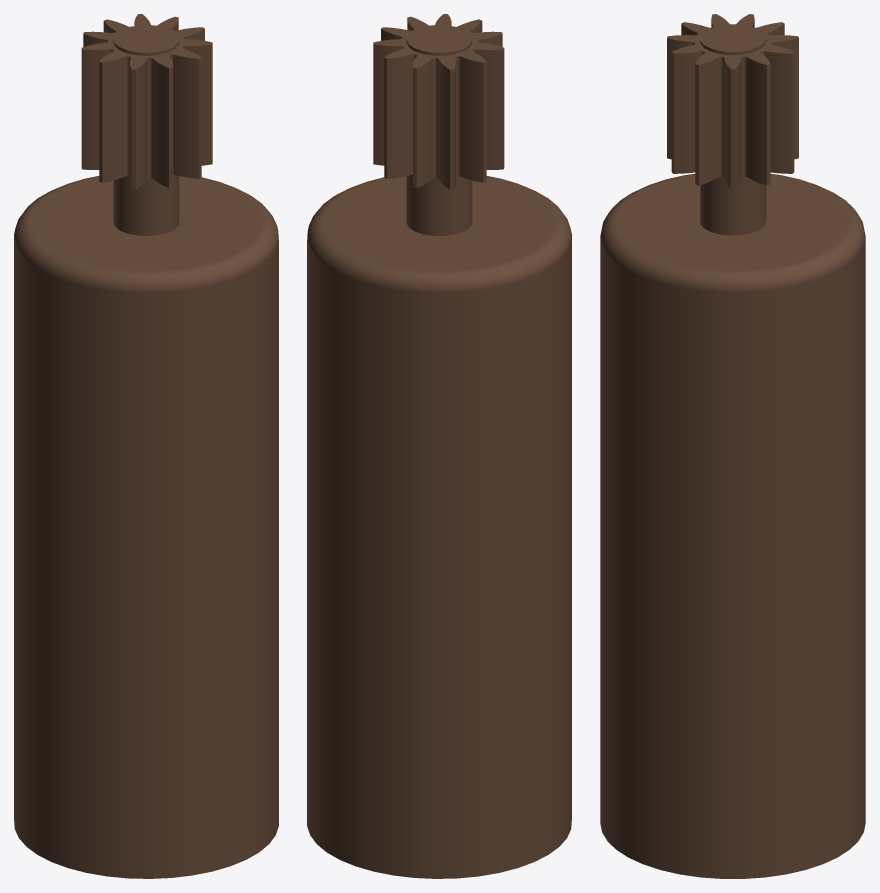
The model's file is Gearing.gltf.
3 views of the same model, side by side, from view 1: azimuth 30°, elevation 25°; view 2: azimuth 150°, elevation 25°; view 3: azimuth 270°, elevation 25° (orthographic).
Visible parts, largest first — view 1: Solid1; view 2: Solid1; view 3: Solid1.
Boxes of the visible parts, <box> form: Solid1: <box>14,14,278,878</box>; Solid1: <box>307,14,571,878</box>; Solid1: <box>600,14,865,878</box>.
Size of the model in its own units: 0.00797 by 0.0261 by 0.008.
